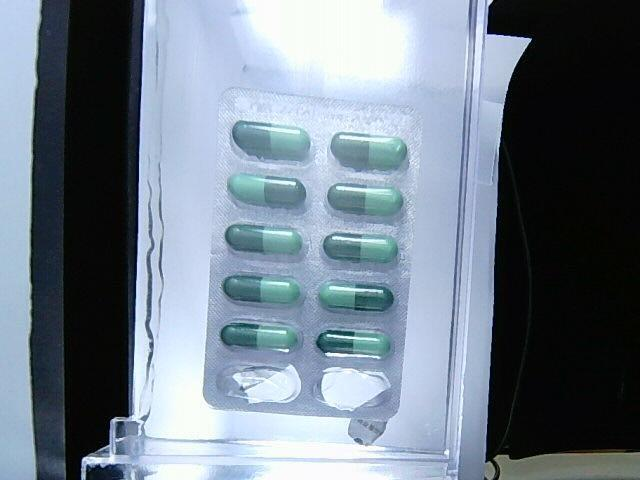Light Front: (204, 89, 421, 422)
No Pill Front: (313, 366, 391, 411), (218, 364, 301, 404)
Pill Front: (233, 121, 310, 156), (228, 174, 306, 207), (331, 133, 406, 165), (220, 323, 300, 353), (328, 184, 403, 215), (225, 224, 302, 254), (323, 233, 398, 263), (319, 281, 394, 311), (316, 329, 391, 358), (223, 275, 300, 303)
